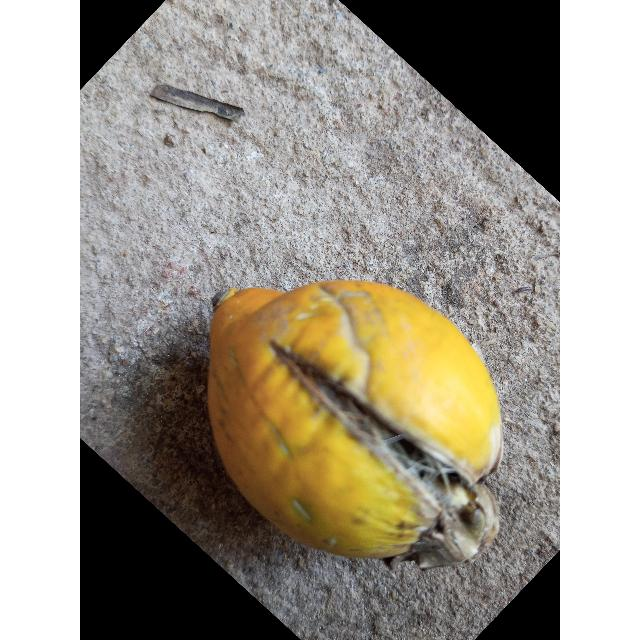damaged: (206, 279, 503, 571)
